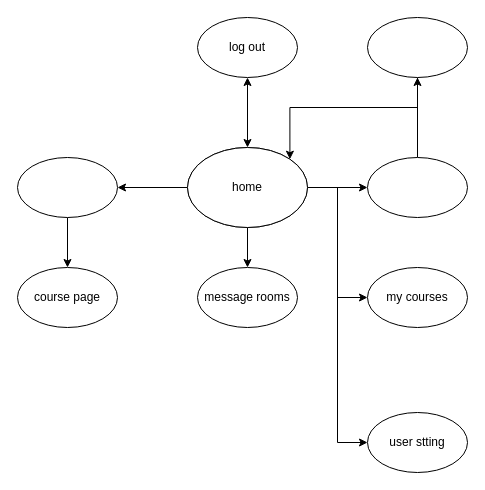
The diagram is 485 pixels wide and 490 high, and some of its shapes have lost their labels. The shapes that lost their labels are listed below. From the top down, each one's centre as x and y in pixels, then its label:
At point 417,47: "log in".
At point 67,187: "courses list".
At point 417,187: "register".
